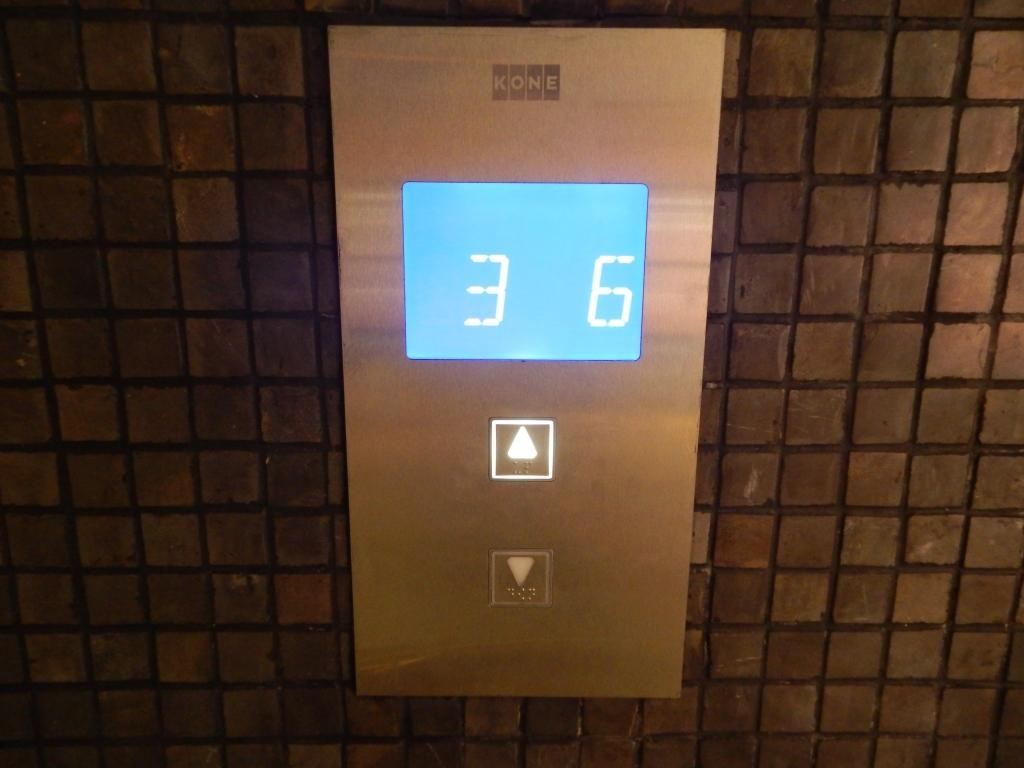down: (487, 549, 553, 608)
led: (401, 182, 647, 361)
up: (487, 416, 558, 484)
